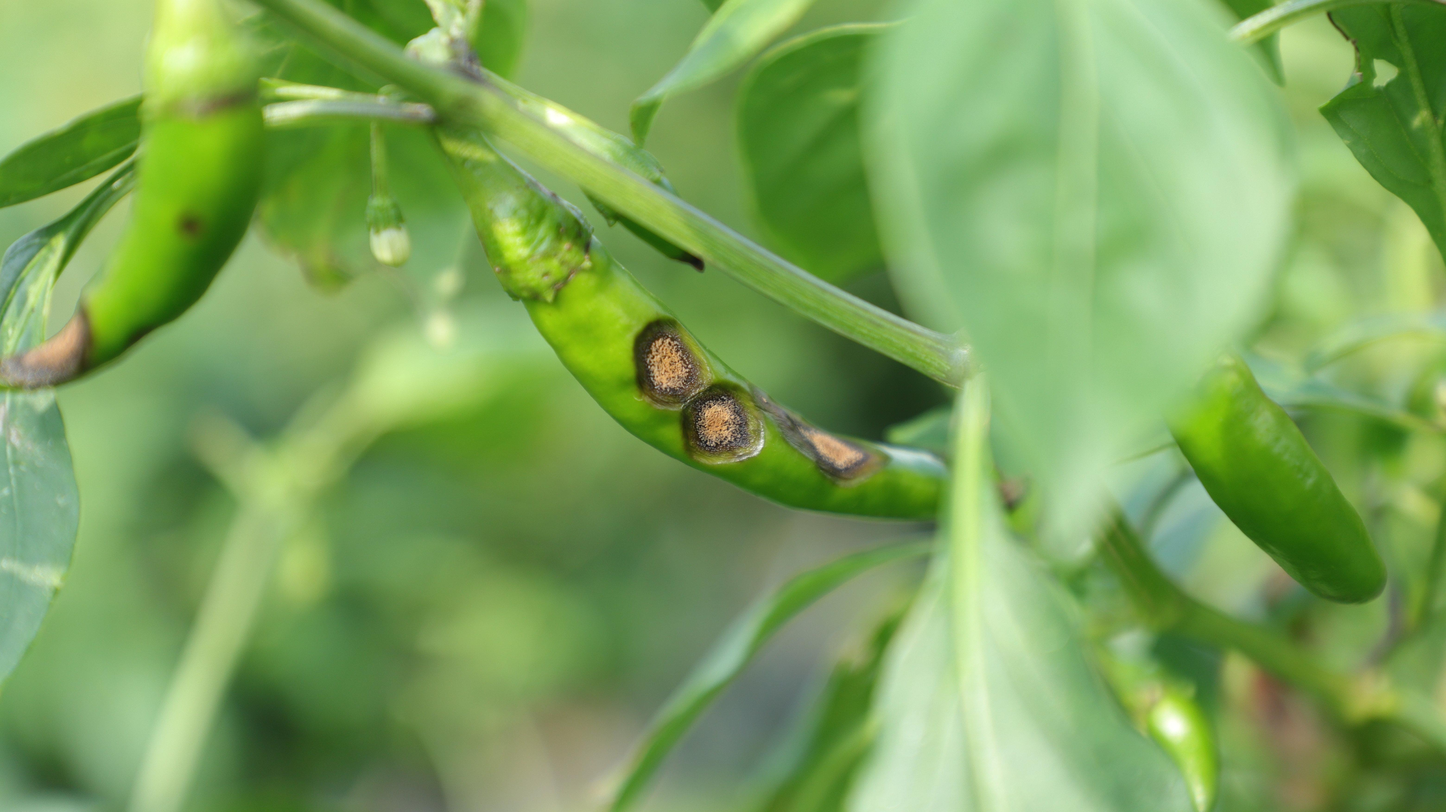Busuk Buah Antraknosa: (496, 191, 956, 525), (0, 1, 264, 409)
